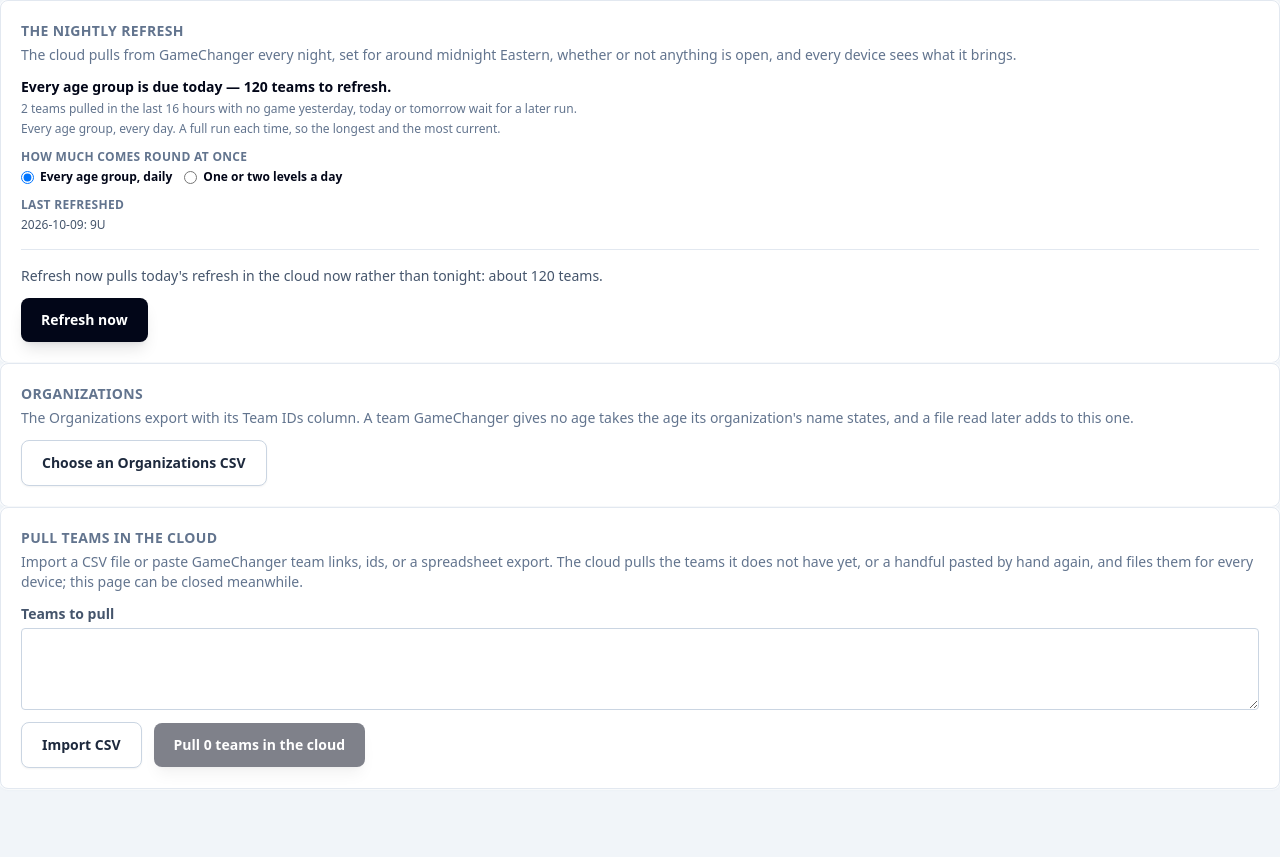
Refresh now on the Import tab › starts the refresh in the cloud on a press, sending no list, and watches it
The width and height of the screenshot is (1280, 857).
Expected: the text with test id "refresh-offer" is shown, [21, 266, 603, 285]
The live regions there before the press, which a screen reader is already listening to.
Click the button "Refresh now": (84, 320) [21, 298, 148, 342]
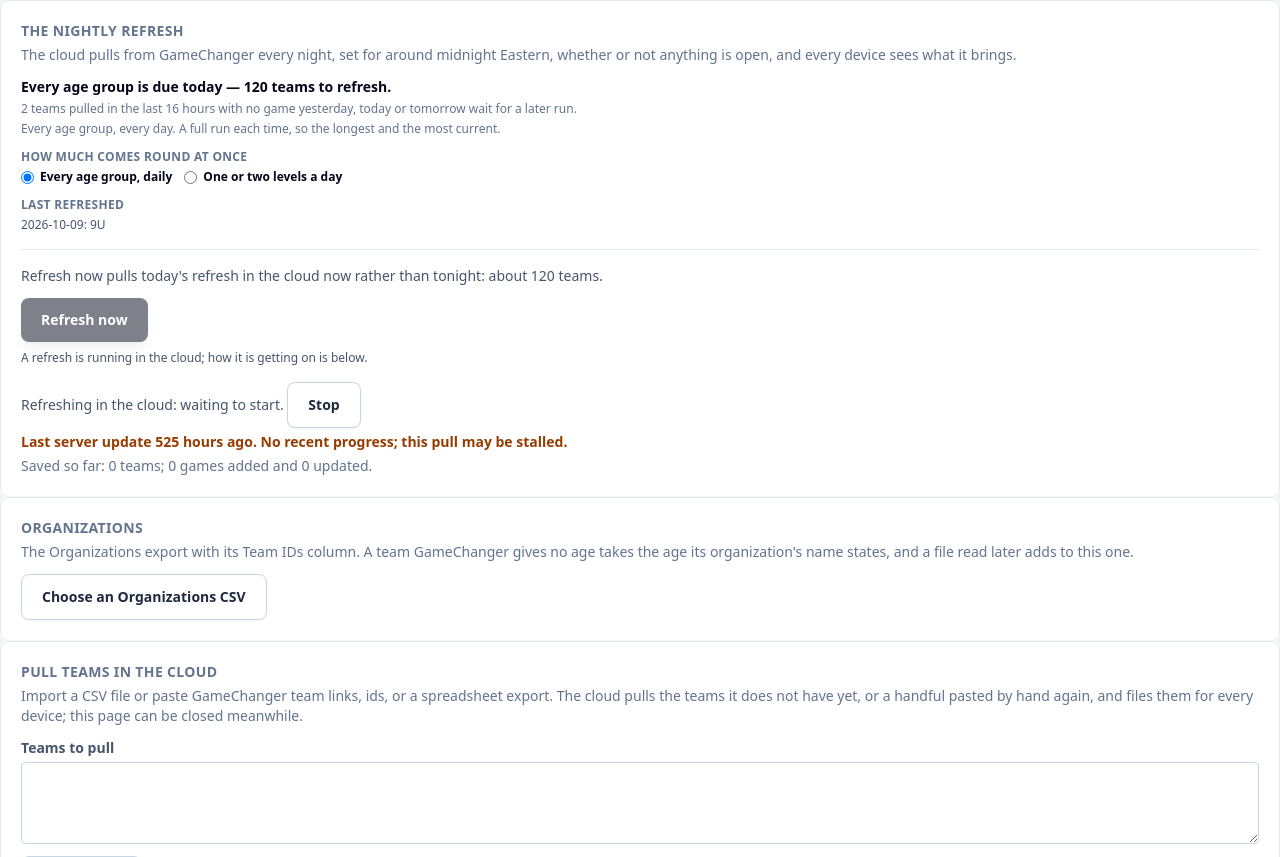
Expected: the button "Refresh now" is disabled, [21, 298, 148, 342]
